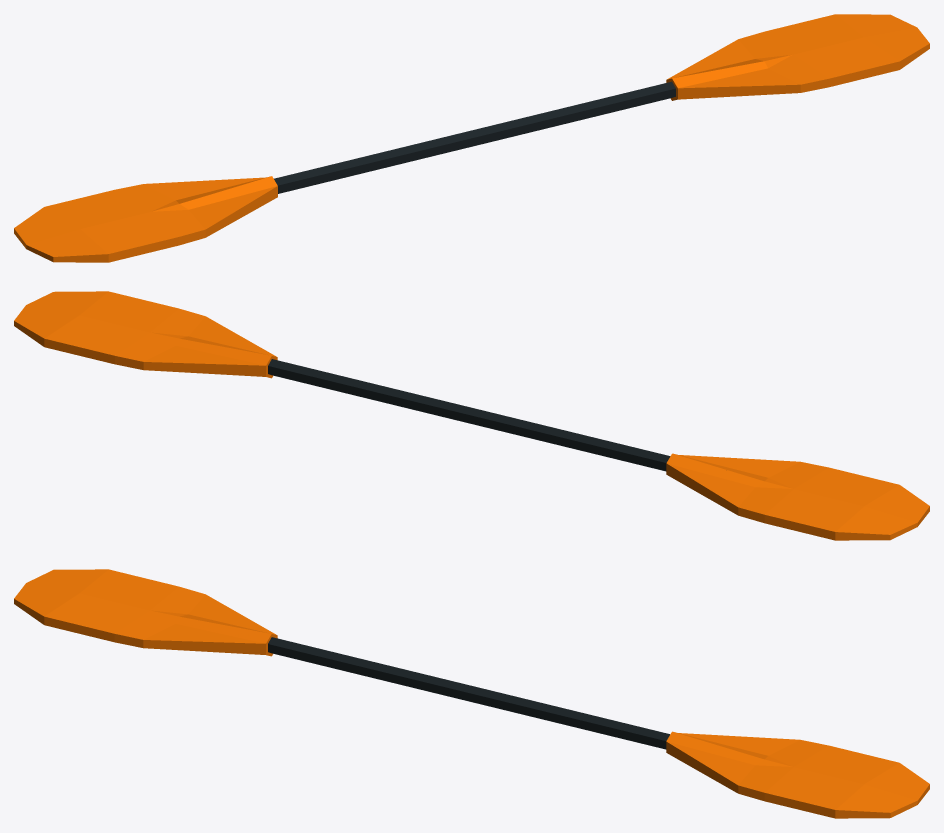
File: Oar_01.fbx
The picture shows the model from 3 angles, top to bottom: view 1: azimuth 30°, elevation 25°; view 2: azimuth 150°, elevation 25°; view 3: azimuth 330°, elevation 25°; orthographic projection.
Parts seen in each view (by area): view 1: Oar_01; view 2: Oar_01; view 3: Oar_01.
Boxes of the visible parts, box(x1,y1,x2,y2) form: Oar_01: box(14, 14, 929, 262); Oar_01: box(14, 291, 929, 540); Oar_01: box(14, 569, 929, 818).
Bounding box in the file's own units: 182 × 4.42 × 22.98.
